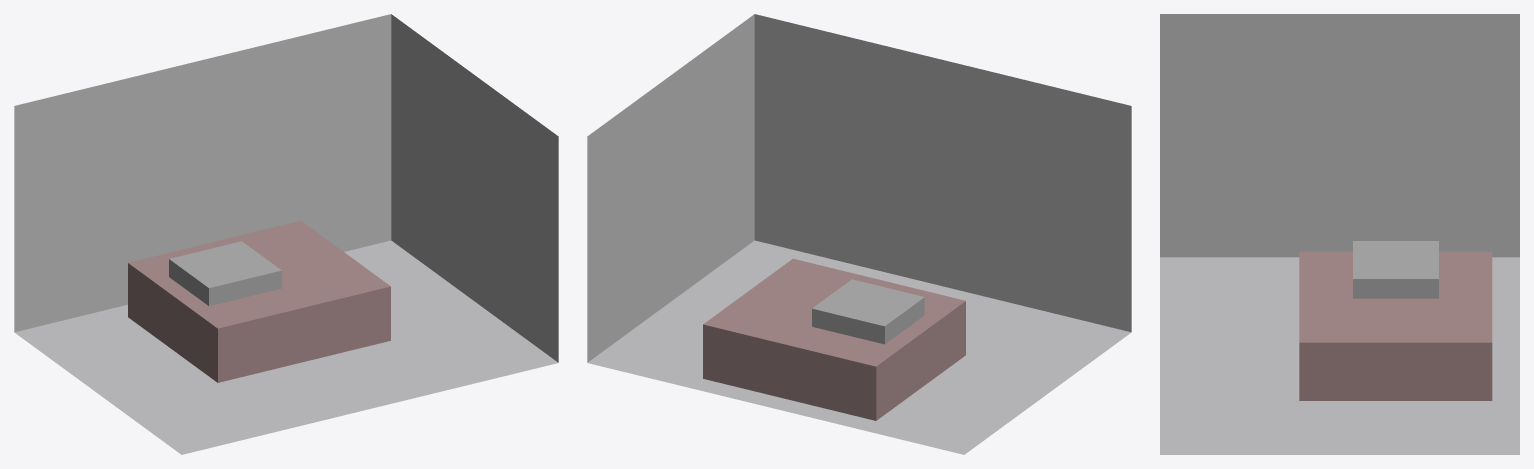
File: current_layout.glb
The picture shows the model from 3 angles, left to right: view 1: azimuth 30°, elevation 25°; view 2: azimuth 150°, elevation 25°; view 3: azimuth 270°, elevation 25°; orthographic projection. The views are drawn at different scales.
Visible parts, largest first — view 1: room, bed, dustbin, tables, wardrobe; view 2: room, bed, tables, dustbin, wardrobe; view 3: room, bed, dustbin, wardrobe.
Boxes of the visible parts, bbox=[...] form: room: bbox=[14, 14, 558, 454]; bed: bbox=[128, 220, 390, 382]; dustbin: bbox=[173, 241, 281, 305]; tables: bbox=[172, 241, 263, 287]; wardrobe: bbox=[169, 242, 249, 306]; room: bbox=[587, 14, 1131, 454]; bed: bbox=[703, 258, 965, 420]; tables: bbox=[812, 286, 921, 343]; dustbin: bbox=[812, 279, 920, 326]; wardrobe: bbox=[828, 291, 924, 344]; room: bbox=[1160, 14, 1519, 454]; bed: bbox=[1299, 251, 1492, 400]; dustbin: bbox=[1353, 242, 1438, 298]; wardrobe: bbox=[1353, 241, 1438, 277].
Size of the model in its own units: 4.36 by 2.5 by 3.35.
